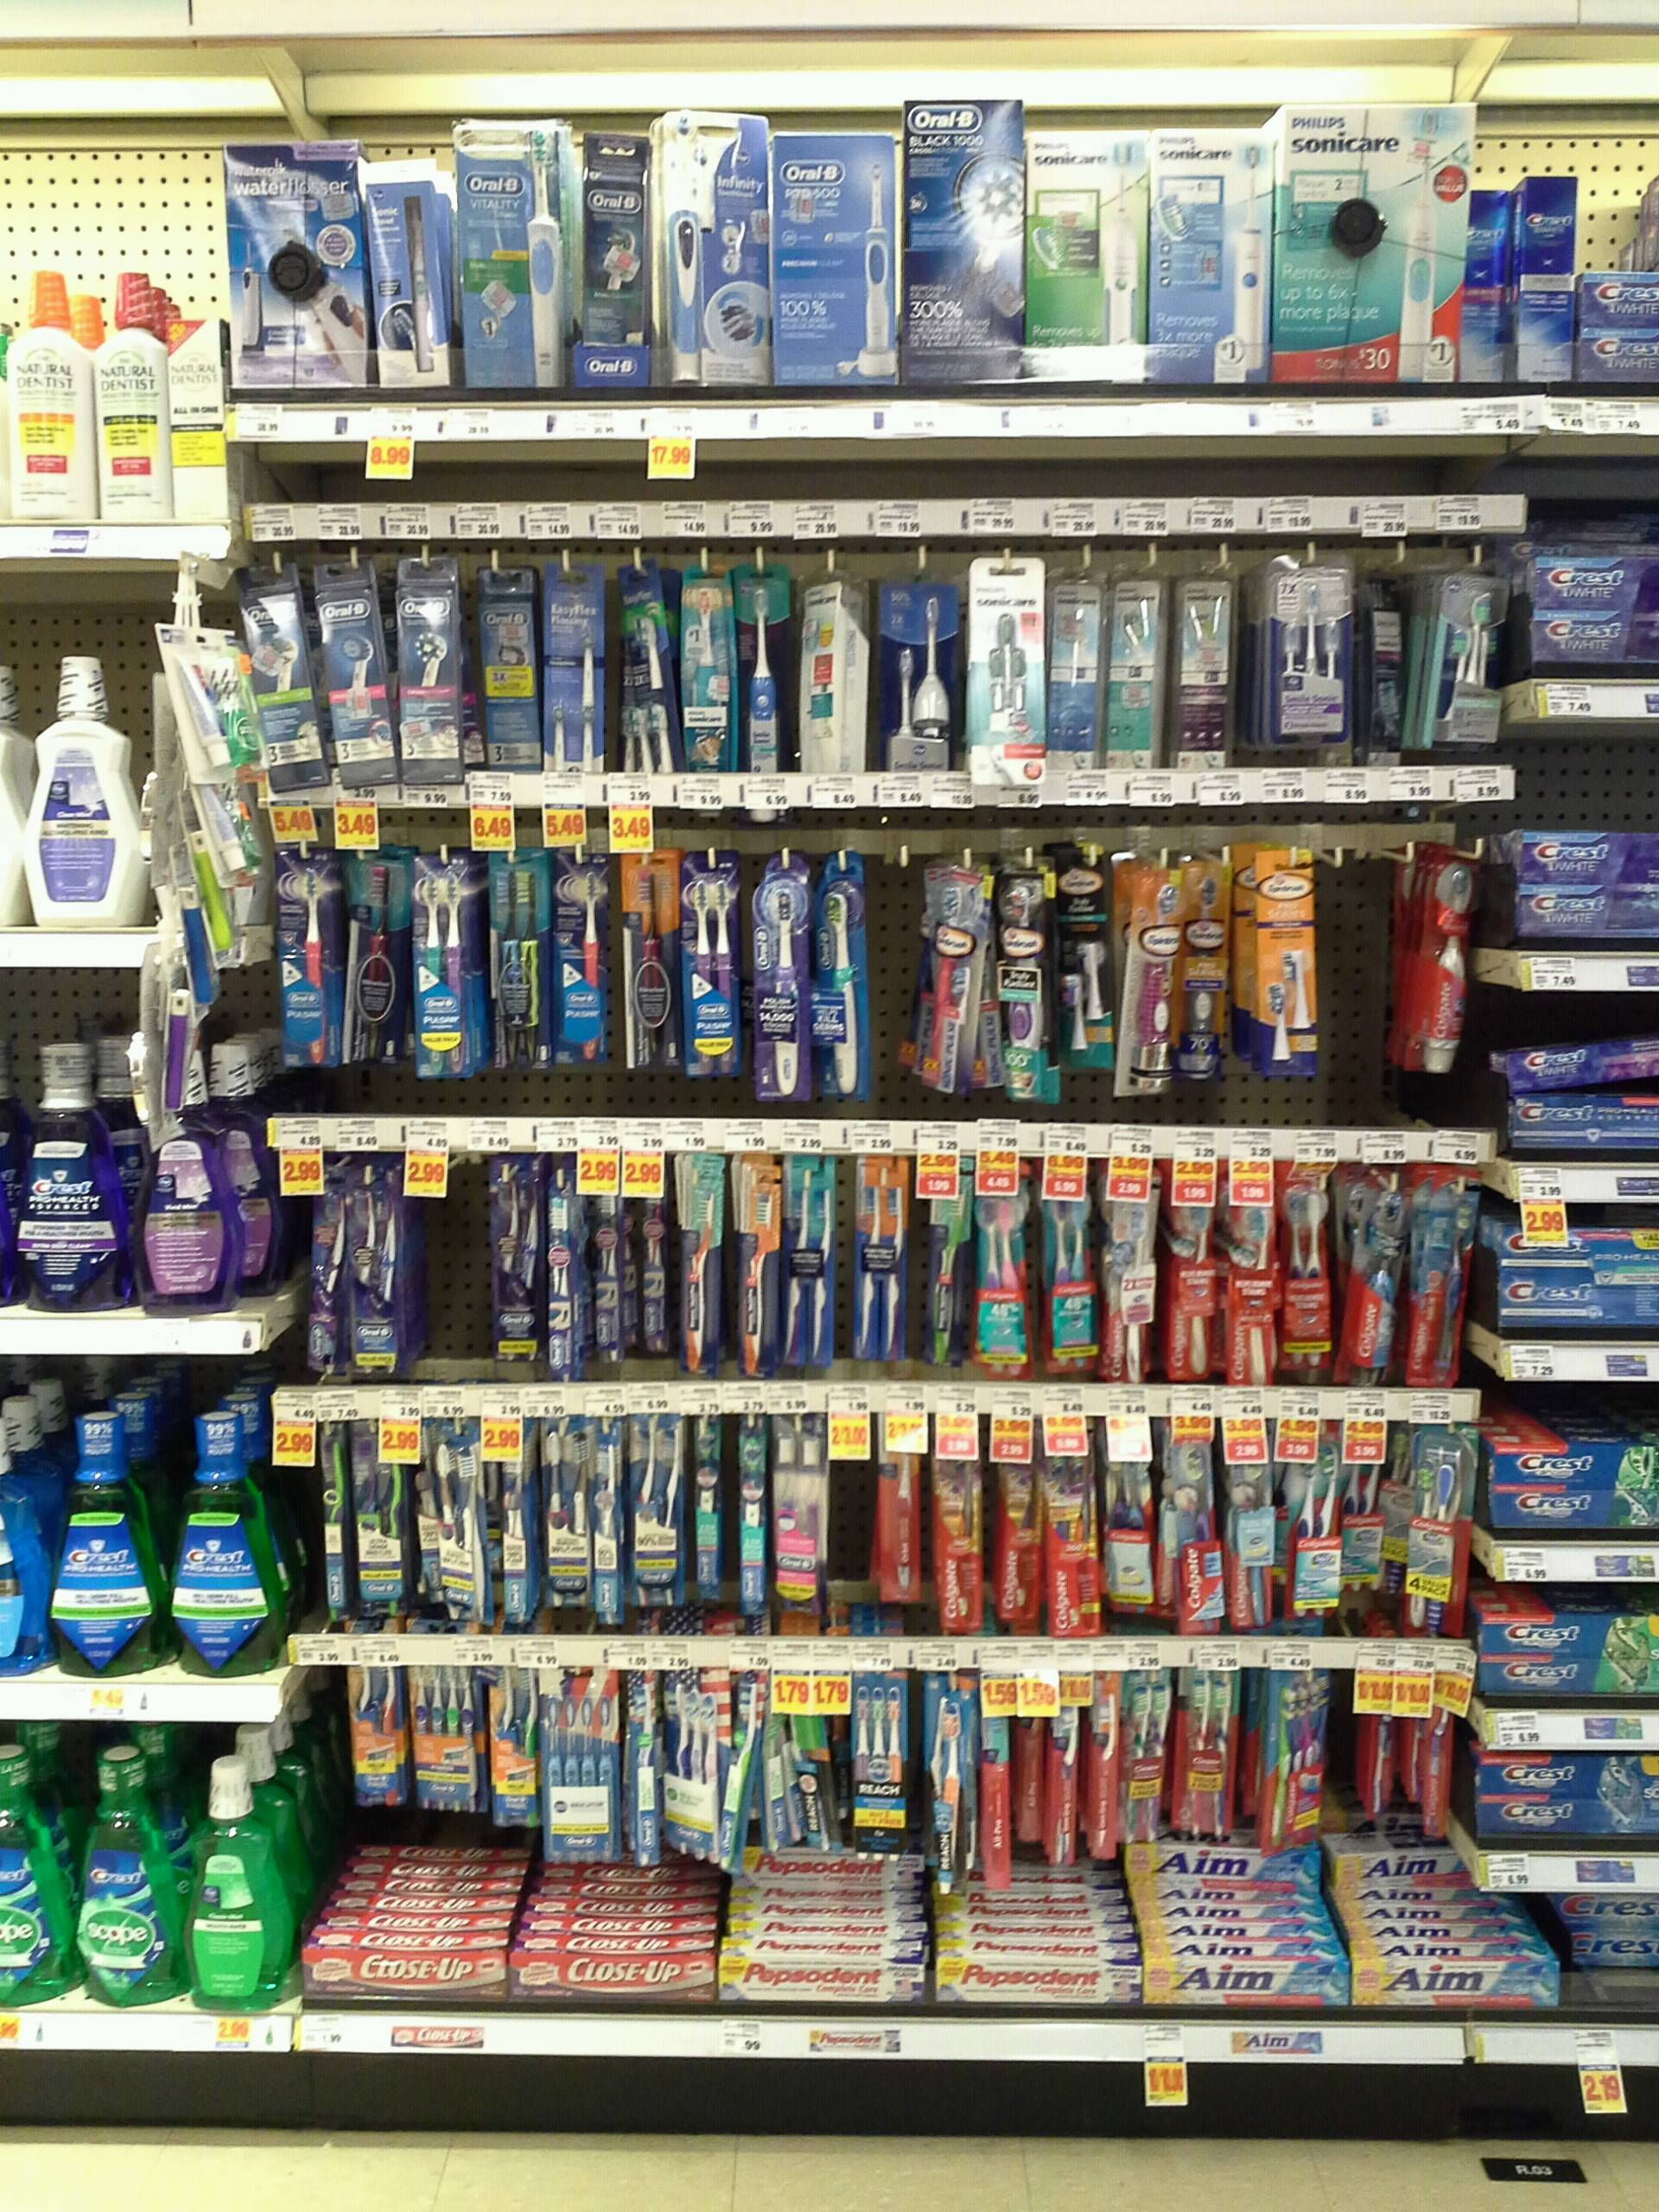Out-of-stock: (1305, 826, 1422, 1083)
